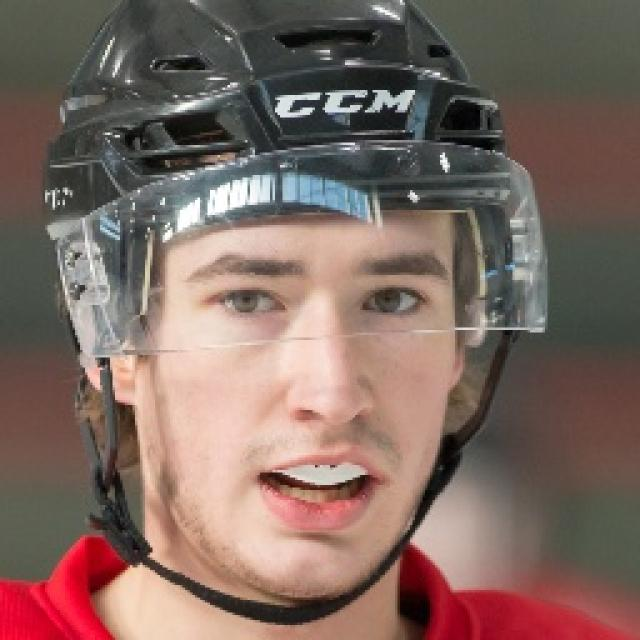earlobe: (75, 285, 130, 401), (447, 294, 475, 388)
